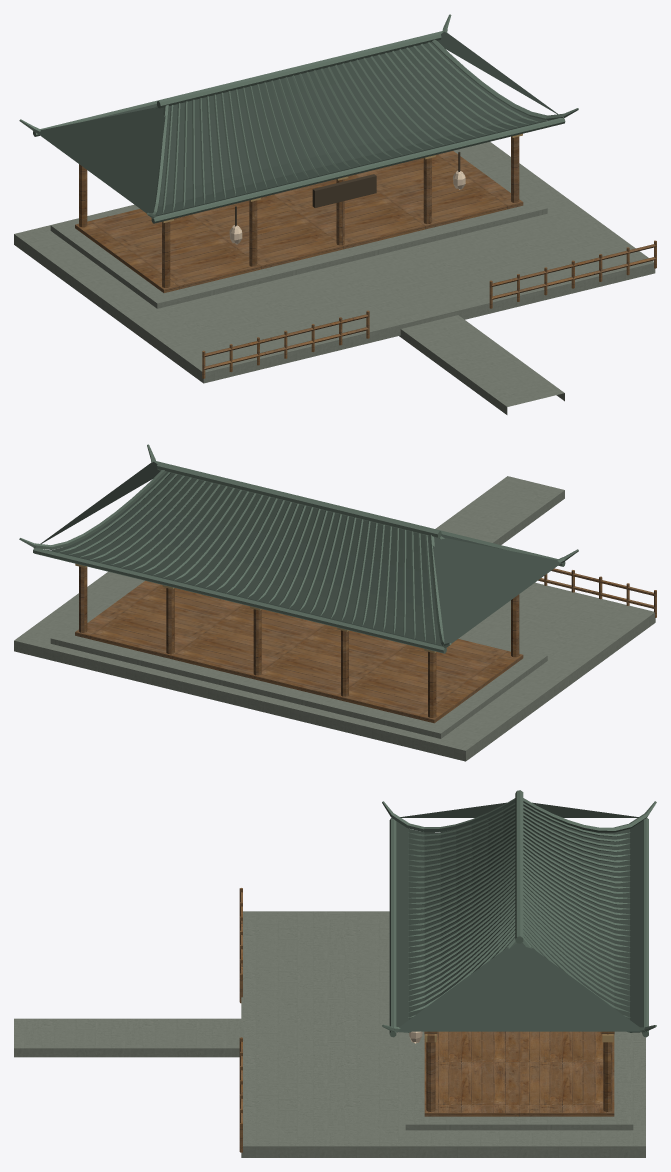
Rendered from aojingxiguan.glb.
The picture shows the model from 3 angles, top to bottom: view 1: azimuth 30°, elevation 25°; view 2: azimuth 150°, elevation 25°; view 3: azimuth 270°, elevation 25°; orthographic projection. The views are drawn at different scales.
Parts seen in each view (by area): view 1: aojingxiguan_stone, aojingxiguan_roof, aojingxiguan_wood, aojingxiguan_tile, aojingxiguan_darkwood; view 2: aojingxiguan_stone, aojingxiguan_roof, aojingxiguan_wood, aojingxiguan_tile; view 3: aojingxiguan_stone, aojingxiguan_roof, aojingxiguan_tile, aojingxiguan_wood.
Part boxes in pixels (x1,y1,x2,y2): aojingxiguan_stone: (14,142,655,414); aojingxiguan_roof: (36,32,557,216); aojingxiguan_wood: (75,136,656,378); aojingxiguan_tile: (19,14,578,223); aojingxiguan_darkwood: (235,152,460,226); aojingxiguan_stone: (14,476,655,761); aojingxiguan_roof: (40,462,561,646); aojingxiguan_wood: (75,566,656,723); aojingxiguan_tile: (19,444,578,653); aojingxiguan_stone: (14,911,645,1157); aojingxiguan_roof: (396,802,642,1032); aojingxiguan_tile: (382,790,656,1037); aojingxiguan_wood: (239,888,614,1152).
Bounding box in the file's own units: 22.13 × 7.83 × 25.44.
7 materials, 2 textured.
